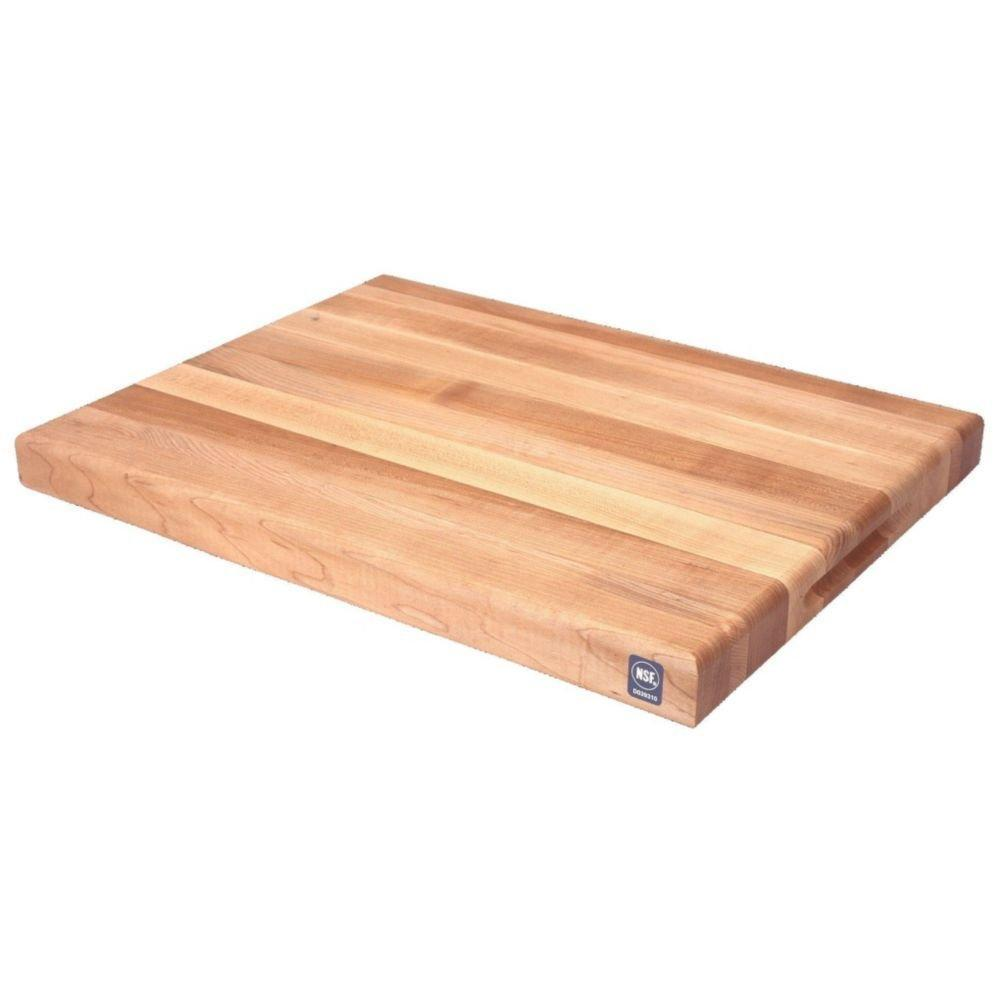gloved_hand: (13, 266, 1000, 729)
